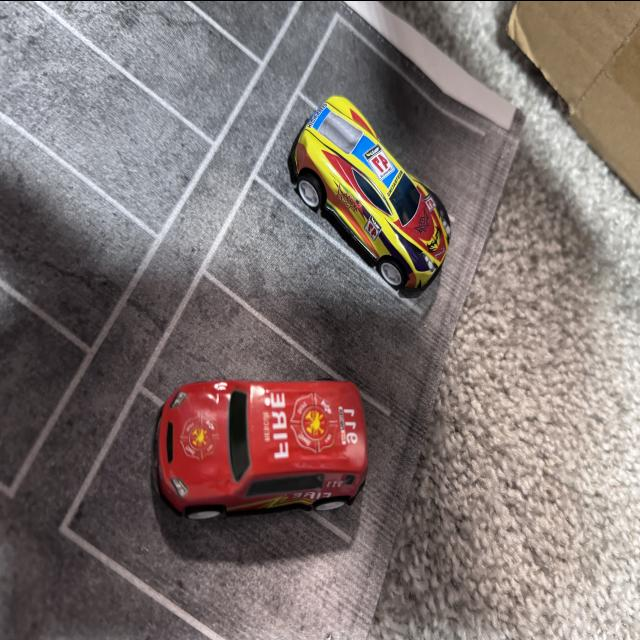Car: (272, 74, 448, 348), (158, 322, 372, 538)
